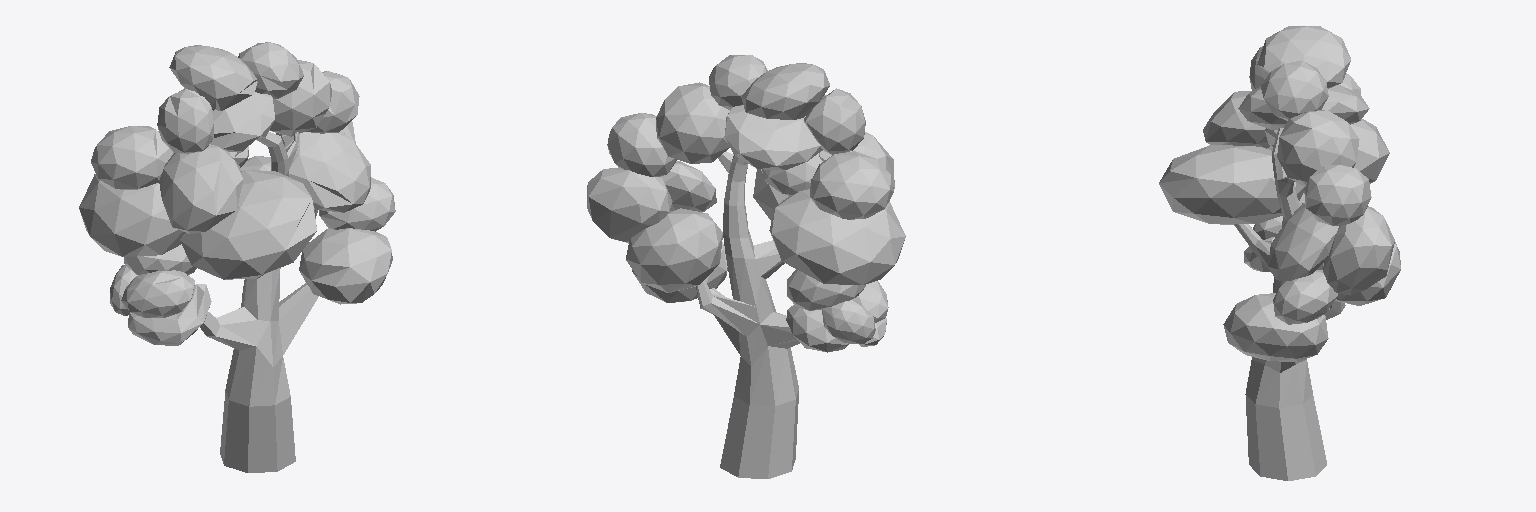
The model's file is Treee.obj.
3 renders of one model, left to right at view 1: azimuth 30°, elevation 25°; view 2: azimuth 150°, elevation 25°; view 3: azimuth 270°, elevation 25°, orthographic.
Parts seen in each view (by area): view 1: Oak; view 2: Oak; view 3: Oak.
Boxes of the visible parts, box(x1,y1,x2,y2) form: Oak: box(79, 42, 395, 472); Oak: box(587, 55, 905, 478); Oak: box(1159, 26, 1400, 480).
Bounding box in the file's own units: 3.96 × 5.31 × 2.84.